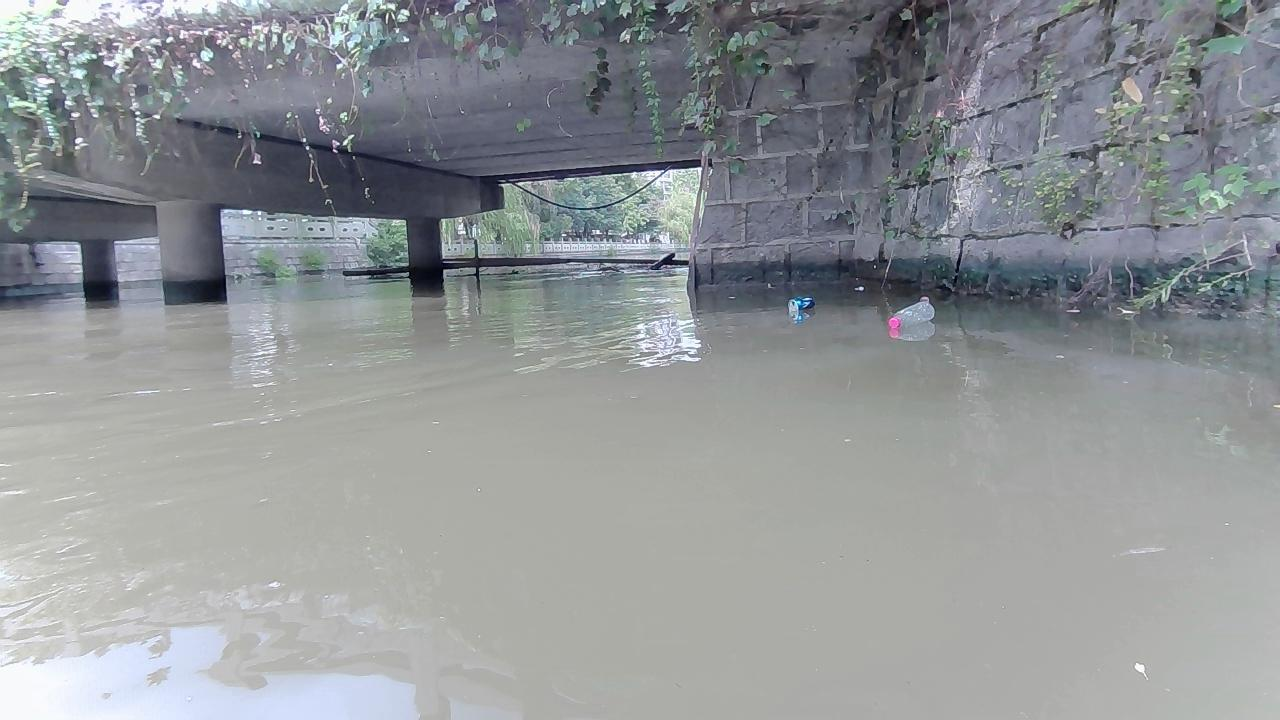Metal: (787, 296, 817, 311)
Plastic: (887, 300, 936, 329)
